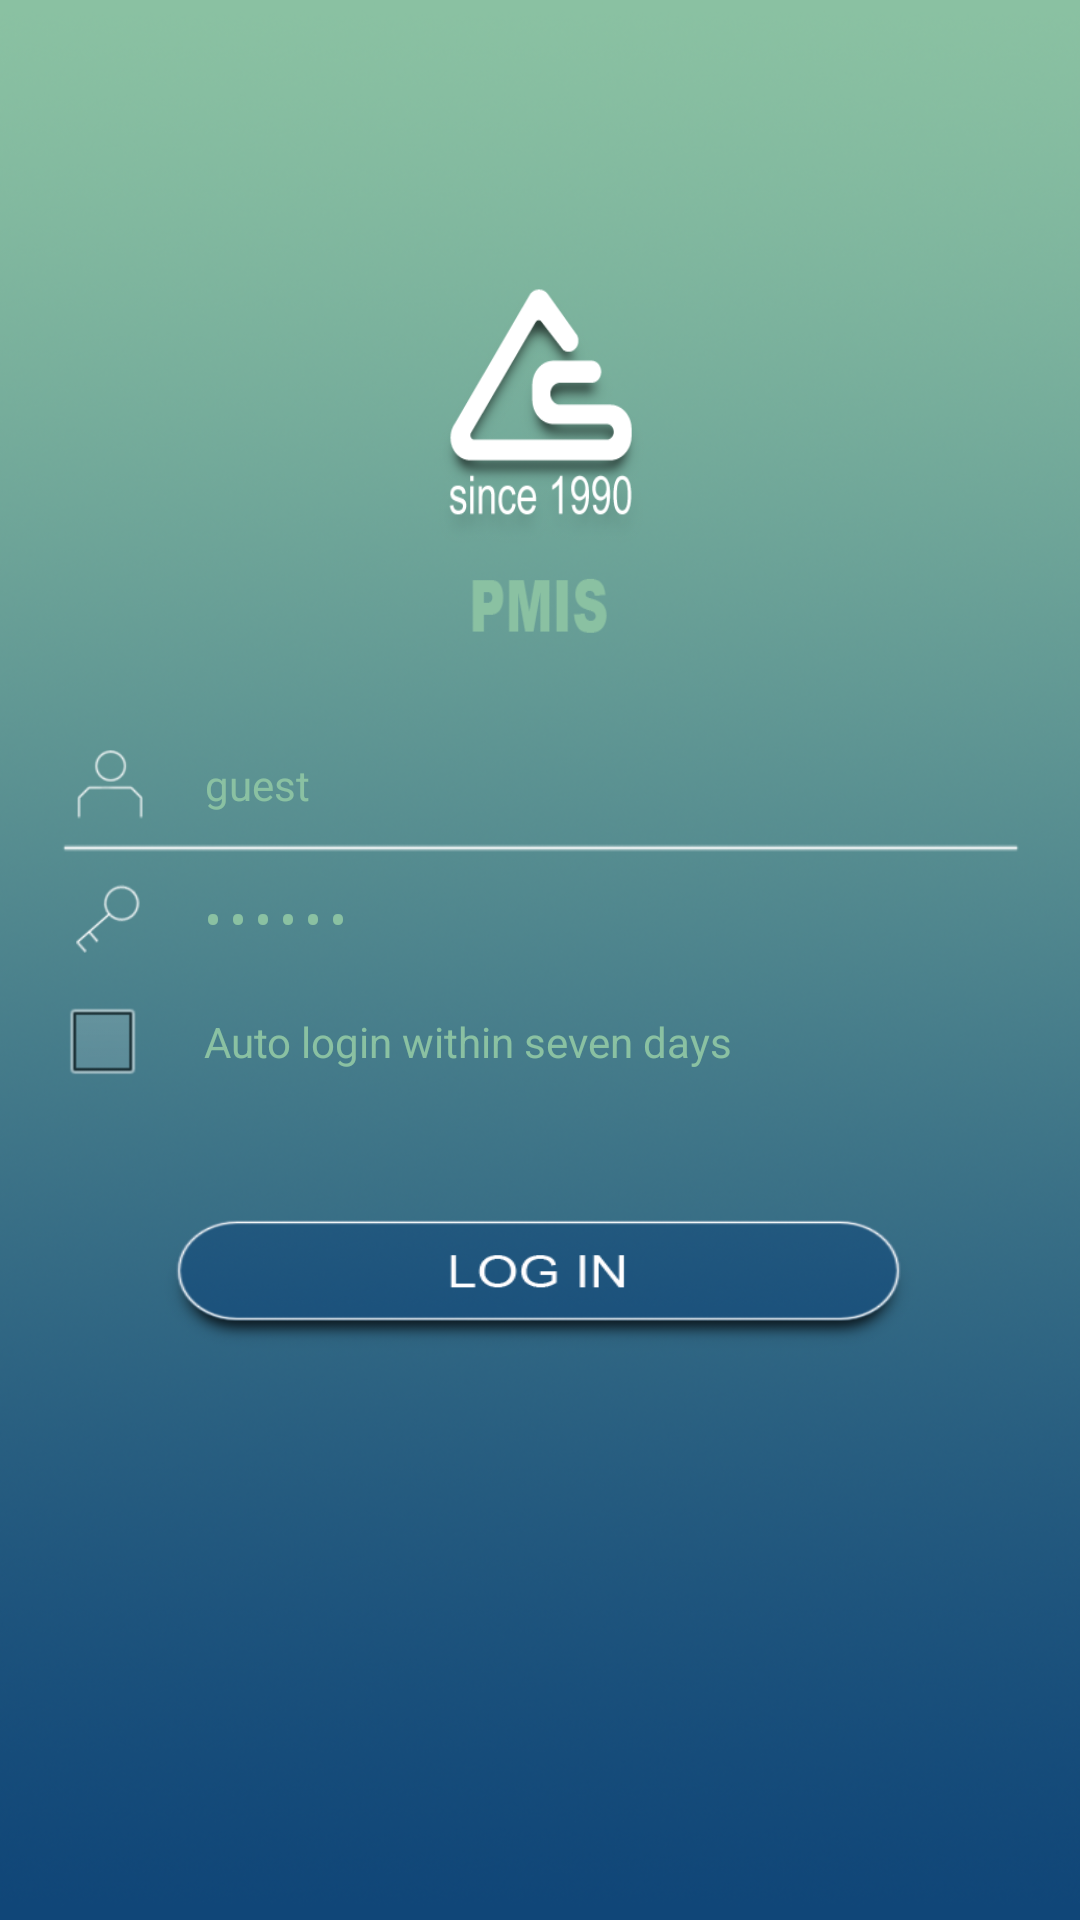

Where to tap for icons on this 1080 × 1920 app screen, as (x,y):
login name: (110,784)
